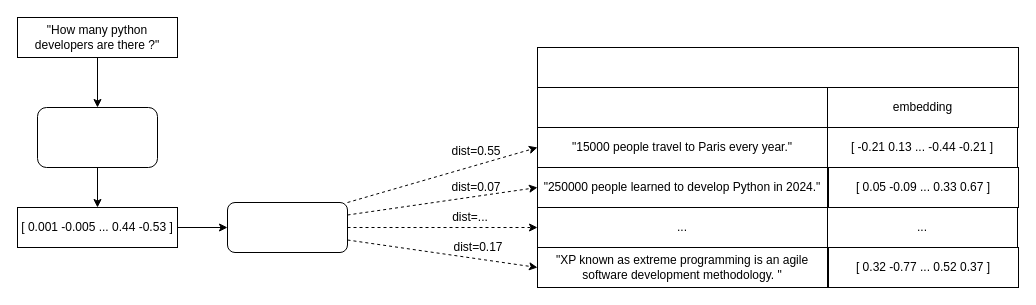
Image size: 1036x305. Some labels were removed from this diagram. The shapes that lost their labels are listed below. From the top down, each one's box as (x1, y1, x2, y2) in pixels, then its label:
(536, 46, 1018, 88): Facts Vector Database
(536, 86, 828, 128): fact
(36, 106, 158, 168): Embedding Model (EmbeddingGemma)
(226, 202, 348, 252): Get the top K most similar facts
